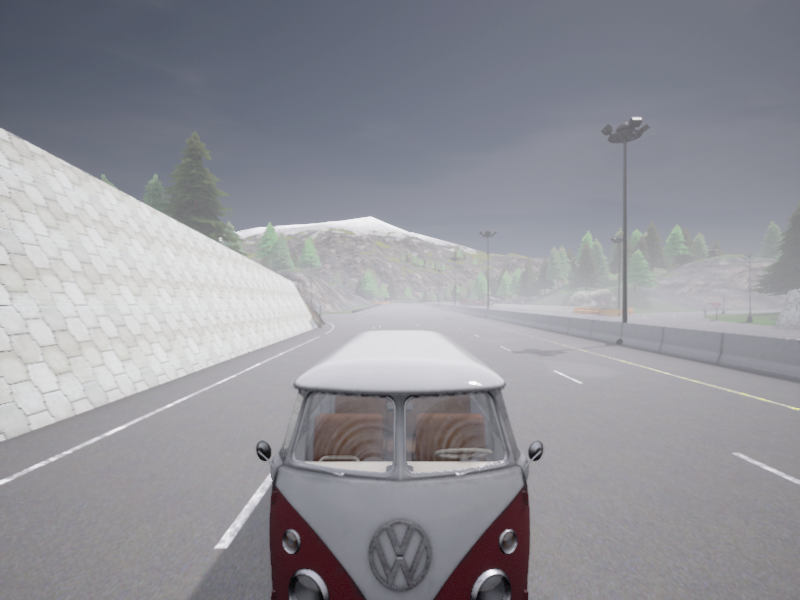vehicle: (256, 330, 543, 599), (460, 298, 467, 301)
